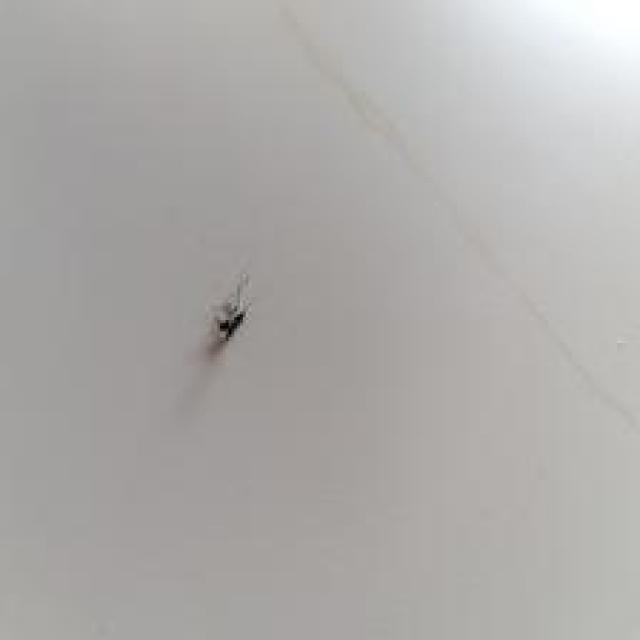Aedes albopictus: (206, 272, 251, 357)
